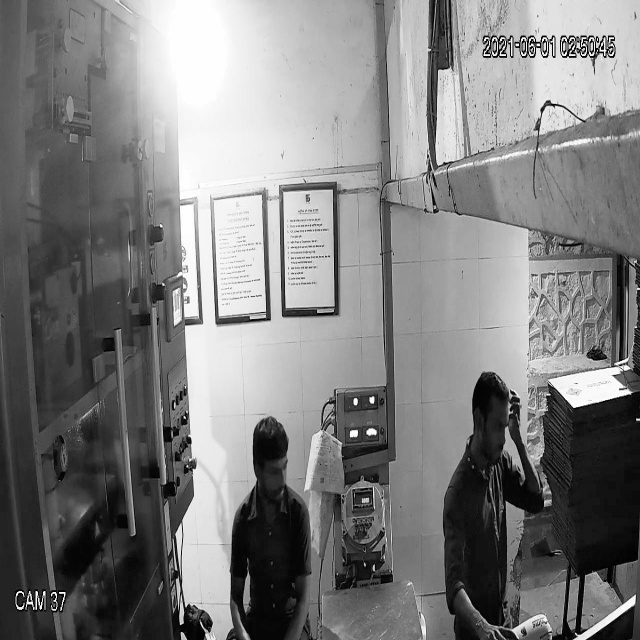Sin_gafas: (462, 407, 514, 443), (246, 451, 295, 486)
